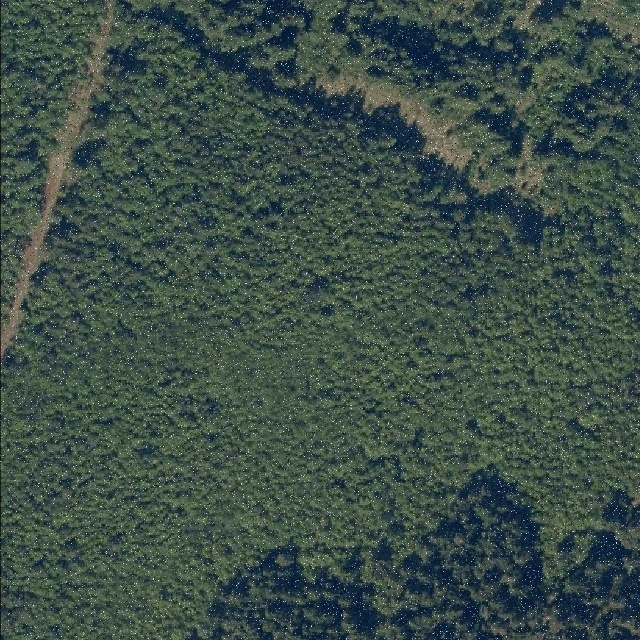vegetation: (0, 0, 640, 640), (126, 0, 530, 191)
